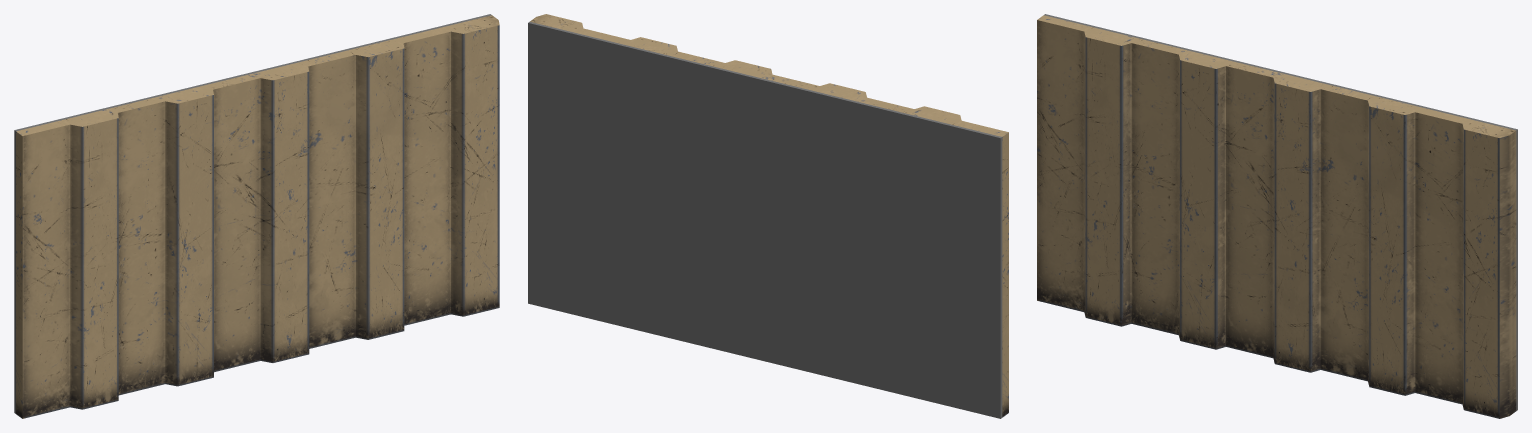
File: CnWallIntA1Btm.fbx
The picture shows the model from 3 angles, left to right: view 1: azimuth 30°, elevation 25°; view 2: azimuth 150°, elevation 25°; view 3: azimuth 330°, elevation 25°; orthographic projection.
Visible parts, largest first — view 1: CnWallIntA1Btm; view 2: CnWallIntA1Btm; view 3: CnWallIntA1Btm.
Part boxes in pixels (x1,y1,x2,y2): CnWallIntA1Btm: (14, 14, 499, 418); CnWallIntA1Btm: (528, 14, 1008, 418); CnWallIntA1Btm: (1037, 14, 1517, 418).
Size of the model in its own units: 200 by 114 by 10.
